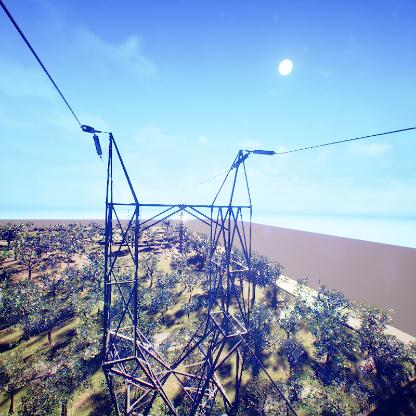tower: (79, 121, 278, 416)
